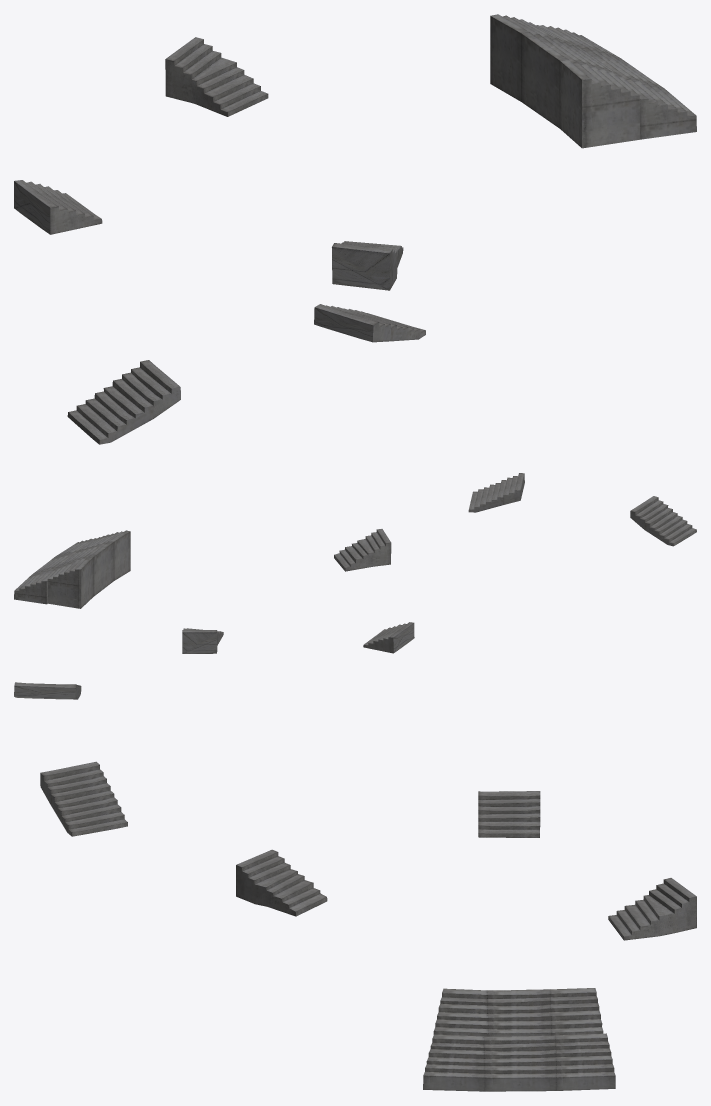
3 renders of one model, top to bottom at view 1: azimuth 30°, elevation 25°; view 2: azimuth 150°, elevation 25°; view 3: azimuth 270°, elevation 25°, orthographic. The views are drawn at different scales.
Parts seen in each view (by area): view 1: Cube.008; view 2: Cube.008; view 3: Cube.008.
Boxes of the visible parts, x1,y1,x2,y2 form: Cube.008: (14, 14, 696, 444); Cube.008: (14, 473, 696, 653); Cube.008: (14, 682, 696, 1091).
Size of the model in its own units: 4725 by 565 by 3910.
